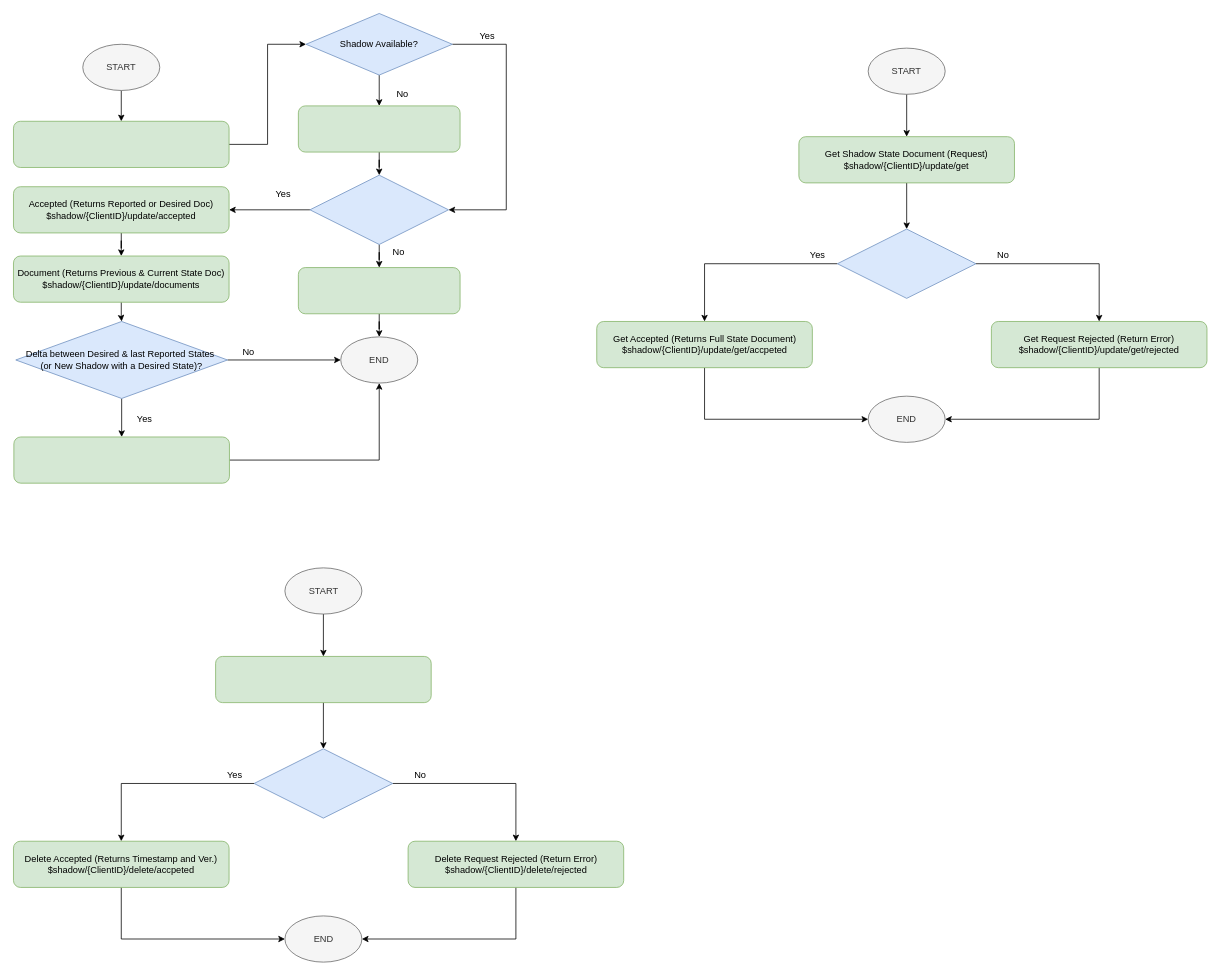
Image size: 1220x976. Some labels were removed from this diagram. The box of each missing label's shape, as (x1, y1, x2, y2) in pixels:
Delete Shadow State Document (Request) $shadow/{ClientID}/delete: (215, 656, 431, 703)
Delta (Returns Delta State) $shadow/{ClientID}/update/delta: (13, 436, 229, 483)
Shadow Delete Request Accepted?: (253, 748, 393, 818)
Shadow Get Request Accepted?: (837, 228, 976, 298)
Shadow Plug will try creating new Shadow: (298, 105, 460, 152)
Shadow Updated Successfully?: (309, 174, 449, 244)
Update Shadow Req (State: Desired or Reported) $shadow/{ClientID}/update: (13, 121, 229, 167)
Update/Creation Rejected(Returns Error) $shadow/{ClientID}/update/rejected: (298, 267, 460, 314)
